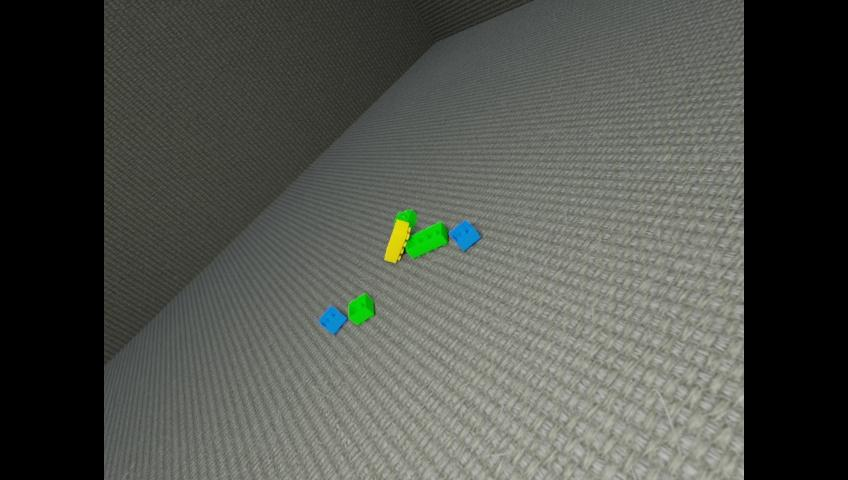2x2_blue: (448, 219, 480, 252), (318, 305, 346, 334)
2x2_green: (348, 292, 372, 324), (395, 209, 418, 229)
4x2_green: (406, 222, 448, 259)
4x2_yellow: (384, 220, 409, 263)
